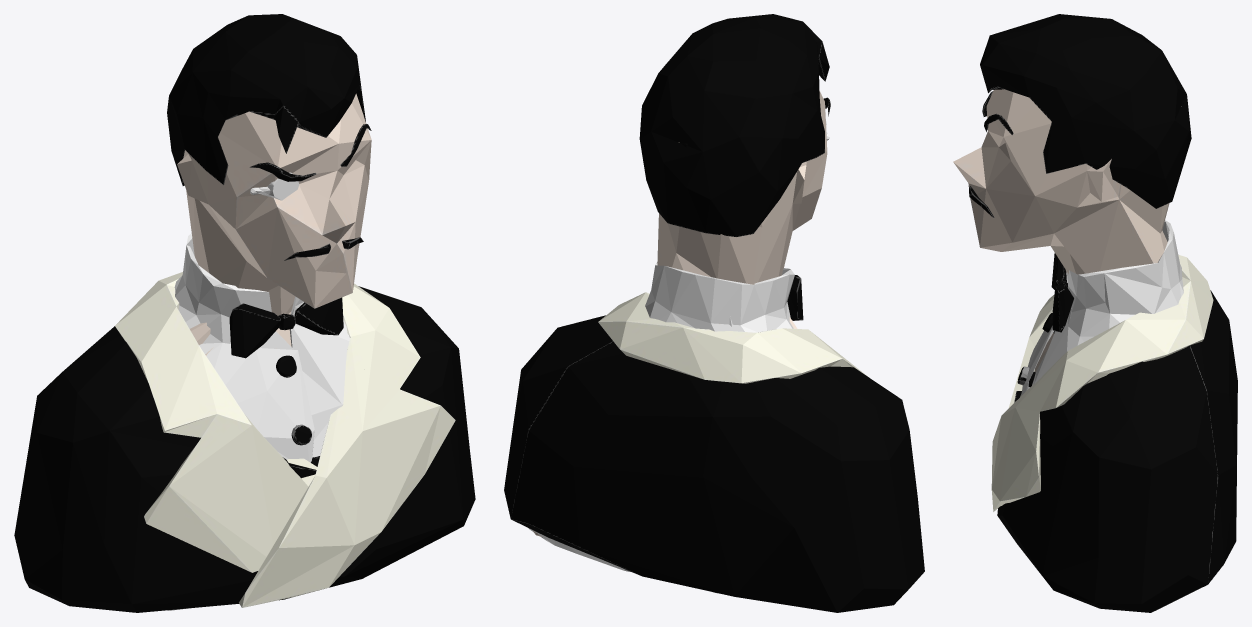
The model's file is stephen.glb.
3 renders of one model, left to right at view 1: azimuth 30°, elevation 25°; view 2: azimuth 150°, elevation 25°; view 3: azimuth 270°, elevation 25°, orthographic. The views are drawn at different scales.
Visible parts, largest first — view 1: ??, ??.001; view 2: ??.001, ??; view 3: ??, ??.001.
Part boxes in pixels (left/top/right/bottom): ??: left=115, top=14, right=455, bottom=610; ??.001: left=14, top=286, right=475, bottom=612; ??.001: left=504, top=315, right=924, bottom=612; ??: left=528, top=14, right=867, bottom=593; ??: left=953, top=14, right=1213, bottom=511; ??.001: left=997, top=290, right=1237, bottom=612.
Size of the model in its own units: 0.9057 by 1.09 by 0.5614.
Materials: 1 (1 with a texture image).
